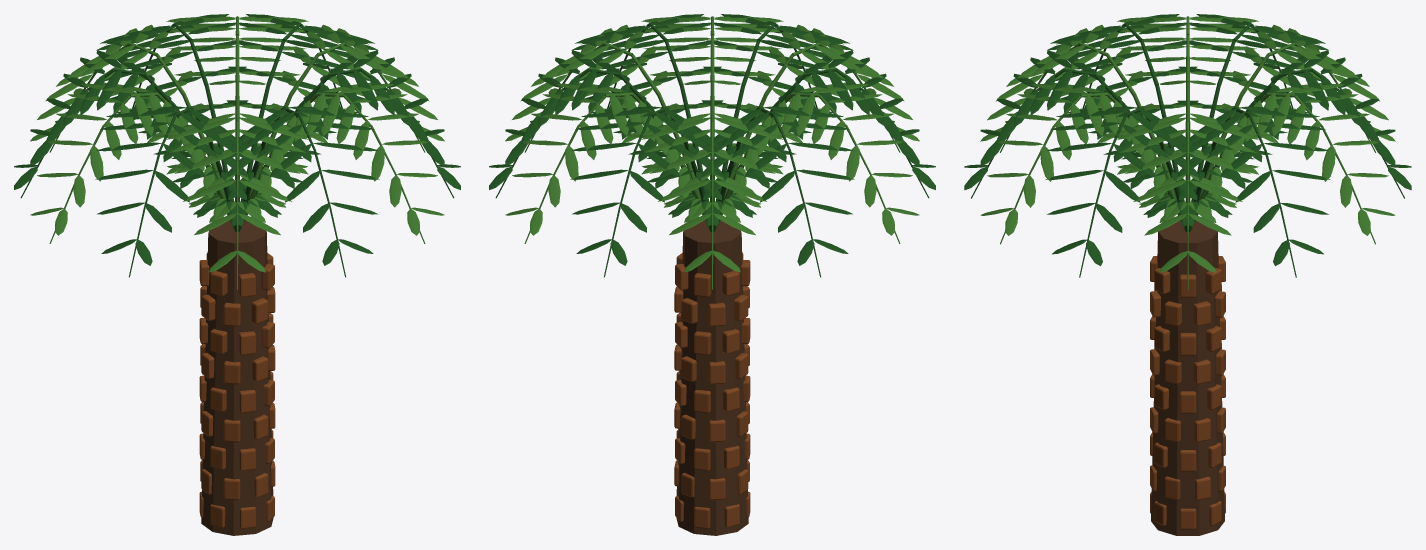
The picture shows the model from 3 angles, left to right: view 1: azimuth 30°, elevation 25°; view 2: azimuth 150°, elevation 25°; view 3: azimuth 270°, elevation 25°; orthographic projection.
Parts seen in each view (by area): view 1: TRUNK_Thick, TRUNK_DiamondLeafScars, FROND_DenseUpright.008, FROND_DenseUpright.010, FROND_DenseUpright.007, FROND_DenseUpright.011, FROND_DenseUpright.009, FROND_DenseUpright.006, FROND_DenseUpright, FROND_DenseUpright.003, FROND_DenseUpright.001, FROND_DenseUpright.005 (+2 smaller); view 2: TRUNK_Thick, TRUNK_DiamondLeafScars, FROND_DenseUpright.004, FROND_DenseUpright.006, FROND_DenseUpright.003, FROND_DenseUpright.007, FROND_DenseUpright.005, FROND_DenseUpright.002, FROND_DenseUpright.008, FROND_DenseUpright.011, FROND_DenseUpright.001, FROND_DenseUpright.009 (+2 smaller); view 3: TRUNK_Thick, TRUNK_DiamondLeafScars, FROND_DenseUpright.002, FROND_DenseUpright, FROND_DenseUpright.003, FROND_DenseUpright.011, FROND_DenseUpright.001, FROND_DenseUpright.004, FROND_DenseUpright.010, FROND_DenseUpright.007, FROND_DenseUpright.005, FROND_DenseUpright.009 (+2 smaller).
Part boxes in pixels (left/top/right/bottom): TRUNK_Thick: left=201, top=220, right=273, bottom=535; TRUNK_DiamondLeafScars: left=199, top=253, right=275, bottom=528; FROND_DenseUpright.008: left=95, top=106, right=248, bottom=277; FROND_DenseUpright.010: left=226, top=106, right=379, bottom=277; FROND_DenseUpright.007: left=30, top=82, right=235, bottom=243; FROND_DenseUpright.011: left=239, top=82, right=444, bottom=243; FROND_DenseUpright.009: left=166, top=112, right=308, bottom=289; FROND_DenseUpright.006: left=14, top=50, right=233, bottom=227; FROND_DenseUpright: left=241, top=50, right=460, bottom=227; FROND_DenseUpright.003: left=166, top=16, right=308, bottom=179; FROND_DenseUpright.001: left=249, top=24, right=444, bottom=207; FROND_DenseUpright.005: left=30, top=24, right=225, bottom=207; TRUNK_Thick: left=676, top=220, right=748, bottom=535; TRUNK_DiamondLeafScars: left=674, top=253, right=750, bottom=528; FROND_DenseUpright.004: left=570, top=106, right=723, bottom=277; FROND_DenseUpright.006: left=701, top=106, right=854, bottom=277; FROND_DenseUpright.003: left=505, top=82, right=710, bottom=243; FROND_DenseUpright.007: left=714, top=82, right=919, bottom=243; FROND_DenseUpright.005: left=641, top=112, right=783, bottom=289; FROND_DenseUpright.002: left=489, top=50, right=708, bottom=227; FROND_DenseUpright.008: left=716, top=50, right=935, bottom=227; FROND_DenseUpright.011: left=641, top=16, right=783, bottom=179; FROND_DenseUpright.001: left=505, top=24, right=700, bottom=207; FROND_DenseUpright.009: left=724, top=24, right=919, bottom=207; TRUNK_Thick: left=1151, top=220, right=1224, bottom=535; TRUNK_DiamondLeafScars: left=1150, top=256, right=1225, bottom=529; FROND_DenseUpright.002: left=1177, top=106, right=1330, bottom=277; FROND_DenseUpright: left=1045, top=106, right=1198, bottom=277; FROND_DenseUpright.003: left=1190, top=83, right=1395, bottom=244; FROND_DenseUpright.011: left=980, top=83, right=1185, bottom=244; FROND_DenseUpright.001: left=1116, top=112, right=1259, bottom=289; FROND_DenseUpright.004: left=1191, top=50, right=1411, bottom=229; FROND_DenseUpright.010: left=964, top=50, right=1184, bottom=229; FROND_DenseUpright.007: left=1117, top=16, right=1258, bottom=157; FROND_DenseUpright.005: left=1199, top=25, right=1395, bottom=207; FROND_DenseUpright.009: left=980, top=25, right=1176, bottom=207.
Bounding box in the file's own units: 4.34 × 4.84 × 4.34.
